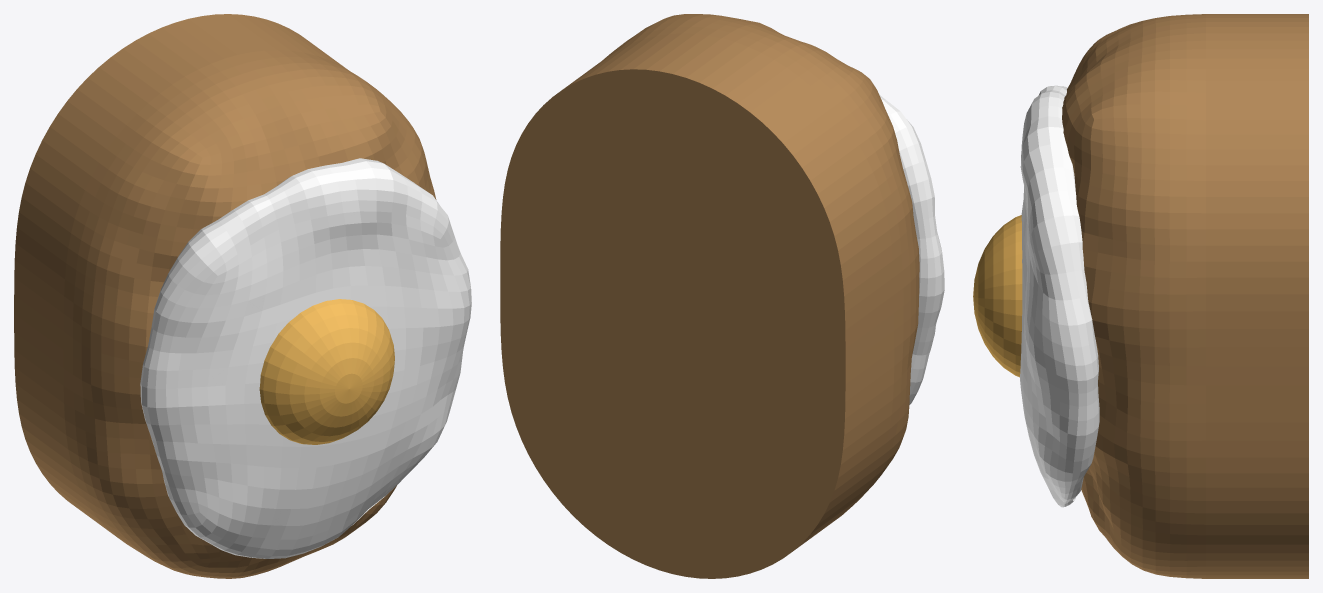
Rendered from egg.glb.
3 renders of one model, left to right at view 1: azimuth 30°, elevation 25°; view 2: azimuth 150°, elevation 25°; view 3: azimuth 270°, elevation 25°, orthographic. The views are drawn at different scales.
Parts seen in each view (by area): view 1: Cube.742, Sphere.086; view 2: Cube.742; view 3: Cube.742, Sphere.086.
Boxes of the visible parts, box(x1,y1,x2,y2) form: Cube.742: box(14, 14, 471, 578); Sphere.086: box(259, 299, 394, 444); Cube.742: box(500, 14, 944, 578); Cube.742: box(1019, 14, 1308, 578); Sphere.086: box(973, 215, 1022, 377).
Bounding box in the file's own units: 10.01 × 13.84 × 8.
